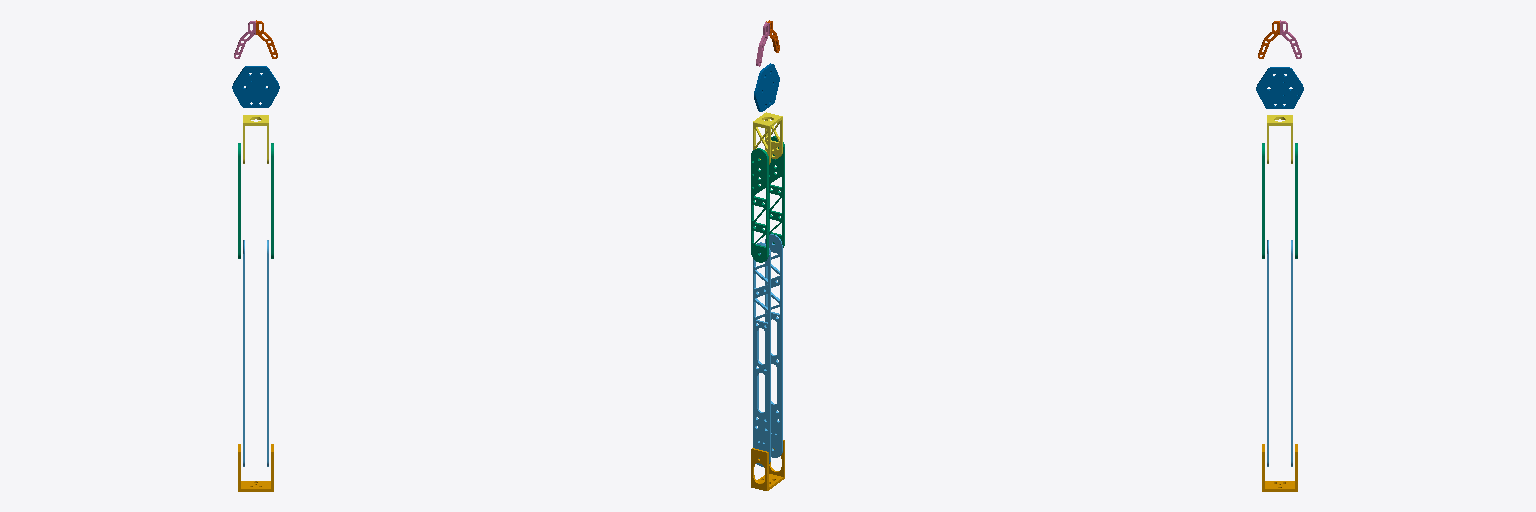
URDF robot description (arm):
<?xml version="1.0" encoding="utf-8" ?>
<!-- =================================================================================== -->
<!-- |    This document was autogenerated by xacro from [local-path]/Rover/ROS_WS/src/simulation/robot/arm_moveit.xacro | -->
<!-- |    EDITING THIS FILE BY HAND IS NOT RECOMMENDED                                 | -->
<!-- =================================================================================== -->
<robot name="arm">
    <!-- <xacro:include filename="$(find simulation)/robot/arm.gazebo" /> -->
    <!-- <origin rpy="0 0 1.5707" xyz="0 0 0"/> -->
    <!-- <link name="world"/> -->
    <link name="base">
        <collision name="collision">
            <!-- <origin rpy="0.0 0 0" xyz="0 0 0.0477"/> -->
            <geometry>
                <!-- <box size="0.0422 0.0785 0.0953"/> -->
                <mesh filename="package://simulation/robot/arm_parts/base.dae" />
            </geometry>
        </collision>
        <visual name="visual">
            <origin rpy="0 0 0" xyz="0 0 0" />
            <geometry>
                <!-- <box size="0.0422 0.0785 0.0953"/> -->
                <mesh filename="package://simulation/robot/arm_parts/base.dae" />
            </geometry>
        </visual>
        
<inertial>
            <mass value="0.1" />
            <inertia ixx="0.03" iyy="0.03" izz="0.03" ixy="0.0" ixz="0.0" iyz="0.0" />
        </inertial>

    </link>
    <link name="upper_arm">
        <collision name="collision">
            <!-- <origin rpy="0 0 0" xyz="0 0 0.253"/> -->
            <origin rpy="0 0 0" xyz="0 0 -0.0216" />
            <geometry>
                <!-- <box size="0.0432 0.0594 0.507"/> -->
                <mesh filename="package://simulation/robot/arm_parts/upper_arm.dae" />
            </geometry>
        </collision>
        <visual name="visual">
            <origin rpy="0 0 0" xyz="0 0 -0.0216" />
            <geometry>
                <!-- <box size="0.0432 0.0594 0.507"/> -->
                <mesh filename="package://simulation/robot/arm_parts/upper_arm.dae" />
            </geometry>
        </visual>
        
<inertial>
            <mass value="0.1" />
            <inertia ixx="0.03" iyy="0.03" izz="0.03" ixy="0.0" ixz="0.0" iyz="0.0" />
        </inertial>

    </link>
    <link name="forearm">
        <collision name="collision">
            <origin rpy="0 0 0" xyz="0 0 0.118" />
            <geometry>
                <box size="0.0424 0.0785 0.237" />
            </geometry>
        </collision>
        <visual name="visual">
            <origin rpy="0 0 0" xyz="0 0 -0.0216" />
            <geometry>
                <!-- <box size="0.0424 0.0785 0.237"/> -->
                <mesh filename="package://simulation/robot/arm_parts/forearm.dae" />
            </geometry>
        </visual>
        
<inertial>
            <mass value="0.1" />
            <inertia ixx="0.03" iyy="0.03" izz="0.03" ixy="0.0" ixz="0.0" iyz="0.0" />
        </inertial>

    </link>
    <link name="wrist">
        <collision name="collision">
            <origin rpy="0 0 0" xyz="0 0 0.0217" />
            <geometry>
                <box size="0.0432 0.0595 0.0865" />
            </geometry>
        </collision>
        <visual name="visual">
            <origin rpy="0 0 0" xyz="0 0 -0.0064" />
            <geometry>
                <!-- <box size="0.0432 0.0595 0.0865"/> -->
                <mesh filename="package://simulation/robot/arm_parts/wrist.dae" />
            </geometry>
        </visual>
        
<inertial>
            <mass value="0.1" />
            <inertia ixx="0.03" iyy="0.03" izz="0.03" ixy="0.0" ixz="0.0" iyz="0.0" />
        </inertial>

    </link>
    <link name="claw_base">
        <collision name="collision">
            <origin rpy="0 0 0" xyz="0 0 0.05" />
            <geometry>
                <box size="0.0064 0.1045 0.1" />
            </geometry>
        </collision>
        <visual name="visual">
            <origin rpy="0 0 0" xyz="0 0 0" />
            <geometry>
                <!-- <box size="0.0424 0.0785 0.237"/> -->
                <mesh filename="package://simulation/robot/arm_parts/claw_base.dae" />
            </geometry>
        </visual>
        
<inertial>
            <mass value="0.1" />
            <inertia ixx="0.03" iyy="0.03" izz="0.03" ixy="0.0" ixz="0.0" iyz="0.0" />
        </inertial>

    </link>
    <link name="claw_right">
        <collision name="collision">
            <origin rpy="0 0 0" xyz="0 0 0" />
            <geometry>
                <mesh filename="package://simulation/robot/arm_parts/claw.dae" />
            </geometry>
            <surface>
                <friction>
                    <ode>
                        <mu>1.4</mu>
                        <mu2>1.4</mu2>
                    </ode>
                </friction>
            </surface>
            <contact>
                <ode>
                    <mu>1.4</mu>
                    <mu2>1.4</mu2>
                    <min_depth>0.003</min_depth>
                    <max_vel>0</max_vel>
                </ode>
            </contact>
        </collision>
        <visual name="visual">
            <origin rpy="0 0 0" xyz="0 0 0" />
            <geometry>
                <!-- <box size="0.0424 0.0785 0.237"/> -->
                <mesh filename="package://simulation/robot/arm_parts/claw.dae" />
            </geometry>
        </visual>
        
<inertial>
            <mass value="0.1" />
            <inertia ixx="0.03" iyy="0.03" izz="0.03" ixy="0.0" ixz="0.0" iyz="0.0" />
        </inertial>

    </link>
    <link name="claw_left">
        <collision name="collision">
            <origin rpy="0 0 0" xyz="0 0 0" />
            <geometry>
                <mesh filename="package://simulation/robot/arm_parts/claw.dae" />
            </geometry>
            <surface>
                <friction>
                    <ode>
                        <mu>1.4</mu>
                        <mu2>1.4</mu2>
                    </ode>
                </friction>
            </surface>
            c
            <contact>
                <ode>
                    <mu>1.4</mu>
                    <mu2>1.4</mu2>
                    <min_depth>0.003</min_depth>
                    <max_vel>0</max_vel>
                </ode>
            </contact>
        </collision>
        <visual name="visual">
            <origin rpy="0 0 0" xyz="0 0 0" />
            <geometry>
                <!-- <box size="0.0424 0.0785 0.237"/> -->
                <mesh filename="package://simulation/robot/arm_parts/claw.dae" />
            </geometry>
        </visual>
        
<inertial>
            <mass value="0.1" />
            <inertia ixx="0.03" iyy="0.03" izz="0.03" ixy="0.0" ixz="0.0" iyz="0.0" />
        </inertial>

    </link>
    <joint name="lower_hinge" type="continuous">
        <!-- <limit upper="1.57" lower="-1.57" velocity="5" effort="1000000"/> -->
        <origin xyz="0 0 0.074" />
        <axis xyz="0 1 0" />
        <child link="upper_arm" />
        <parent link="base" />
    </joint>
    <joint name="upper_hinge" type="continuous">
        <!-- <limit upper="1.57" lower="-1.57" velocity="5" effort="10000"/> -->
        <origin xyz="0 0.0 0.507" />
        <axis xyz="0 1 0" />
        <child link="forearm" />
        <parent link="upper_arm" />
    </joint>
    <joint name="forearm_hinge" type="revolute">
        <limit effort="10000" lower="-1.57" upper="1.57" velocity="5" />
        <origin xyz="0 0.0 0.237" />
        <axis xyz="0 1 0" />
        <child link="wrist" />
        <parent link="forearm" />
    </joint>
    <joint name="wrist_hinge" type="revolute">
        <limit effort="0.5" lower="-6.28" upper="6.28" velocity="1" />
        <origin xyz="0 0.0 0.107" />
        <axis xyz="0 0 1" />
        <child link="claw_base" />
        <parent link="wrist" />
    </joint>
    <joint name="claw_right_hinge" type="revolute">
        <limit effort="5" lower="0" upper="1.57" velocity="0.001" />
        <origin xyz="0 -0.04175 0.128" />
        <axis xyz="1 0 0" />
        <child link="claw_right" />
        <parent link="claw_base" />
    </joint>
    <joint name="claw_left_hinge" type="revolute">
        <limit effort="5" lower="0" upper="1.57" velocity="0.1" />
        <origin rpy="0 0 3.14" xyz="0 0.04175 0.128" />
        <axis xyz="1 0 0" />
        <child link="claw_left" />
        <parent link="claw_base" />
    </joint>
    
<transmission name="trans_lower_hinge">
        <type>transmission_interface/SimpleTransmission</type>
        <joint name="lower_hinge">
            <hardwareInterface>hardware_interface/EffortJointInterface</hardwareInterface>
        </joint>
        <actuator name="lower_hinge_motor">
            <hardwareInterface>hardware_interface/EffortJointInterface</hardwareInterface>
            <mechanicalReduction>1</mechanicalReduction>
        </actuator>
    </transmission>
    <transmission name="trans_upper_hinge">
        <type>transmission_interface/SimpleTransmission</type>
        <joint name="upper_hinge">
            <hardwareInterface>hardware_interface/EffortJointInterface</hardwareInterface>
        </joint>
        <actuator name="upper_hinge_motor">
            <hardwareInterface>hardware_interface/EffortJointInterface</hardwareInterface>
            <mechanicalReduction>1</mechanicalReduction>
        </actuator>
    </transmission>
    <transmission name="trans_forearm_hinge">
        <type>transmission_interface/SimpleTransmission</type>
        <joint name="forearm_hinge">
            <hardwareInterface>hardware_interface/EffortJointInterface</hardwareInterface>
        </joint>
        <actuator name="forearm_hinge_motor">
            <hardwareInterface>hardware_interface/EffortJointInterface</hardwareInterface>
            <mechanicalReduction>1</mechanicalReduction>
        </actuator>
    </transmission>
    <transmission name="trans_wrist_hinge">
        <type>transmission_interface/SimpleTransmission</type>
        <joint name="wrist_hinge">
            <hardwareInterface>hardware_interface/EffortJointInterface</hardwareInterface>
        </joint>
        <actuator name="wrist_hinge_motor">
            <hardwareInterface>hardware_interface/EffortJointInterface</hardwareInterface>
            <mechanicalReduction>1</mechanicalReduction>
        </actuator>
    </transmission>
    <transmission name="trans_claw_right_hinge">
        <type>transmission_interface/SimpleTransmission</type>
        <joint name="claw_right_hinge">
            <hardwareInterface>hardware_interface/EffortJointInterface</hardwareInterface>
        </joint>
        <actuator name="claw_right_hinge_motor">
            <hardwareInterface>hardware_interface/EffortJointInterface</hardwareInterface>
            <mechanicalReduction>1</mechanicalReduction>
        </actuator>
    </transmission>
    <transmission name="trans_claw_left_hinge">
        <type>transmission_interface/SimpleTransmission</type>
        <joint name="claw_left_hinge">
            <hardwareInterface>hardware_interface/EffortJointInterface</hardwareInterface>
        </joint>
        <actuator name="claw_left_hinge_motor">
            <hardwareInterface>hardware_interface/EffortJointInterface</hardwareInterface>
            <mechanicalReduction>1</mechanicalReduction>
        </actuator>
    </transmission>
    <gazebo>
        <plugin name="gazebo_ros_control" filename="libgazebo_ros_control.so">
            <robotNamespace>/</robotNamespace>
        </plugin>
    </gazebo>
</robot>

--- Render facts (derived) ---
Views: 3 orthographic renders of the robot side by side, from view 1: azimuth 90°, elevation 25°; view 2: azimuth 150°, elevation 25°; view 3: azimuth 270°, elevation 25°.
Robot: arm — 7 links, 6 joints (4 revolute, 2 continuous); root link base; default pose: every joint at zero.
Links seen in each view (by area): view 1: claw_base, upper_arm, forearm, base; view 2: upper_arm, forearm, wrist, base, claw_base; view 3: claw_base, upper_arm, forearm, base.
Boxes of the visible links, box(x1,y1,x2,y2) form: claw_base: box(232, 66, 279, 107); upper_arm: box(243, 240, 268, 466); forearm: box(238, 143, 273, 258); base: box(238, 444, 273, 491); upper_arm: box(753, 234, 782, 466); forearm: box(751, 136, 784, 262); wrist: box(753, 112, 782, 164); base: box(751, 440, 784, 490); claw_base: box(754, 63, 779, 111); claw_base: box(1256, 67, 1303, 108); upper_arm: box(1267, 240, 1292, 466); forearm: box(1262, 143, 1297, 258); base: box(1262, 444, 1297, 491).
Bounding box of the posed robot: 0.0432 × 0.1044 × 1.14 m (x, y, z).
Meshes: 6 distinct files referenced, 7 mesh visuals loaded (6 Collada DAE).
